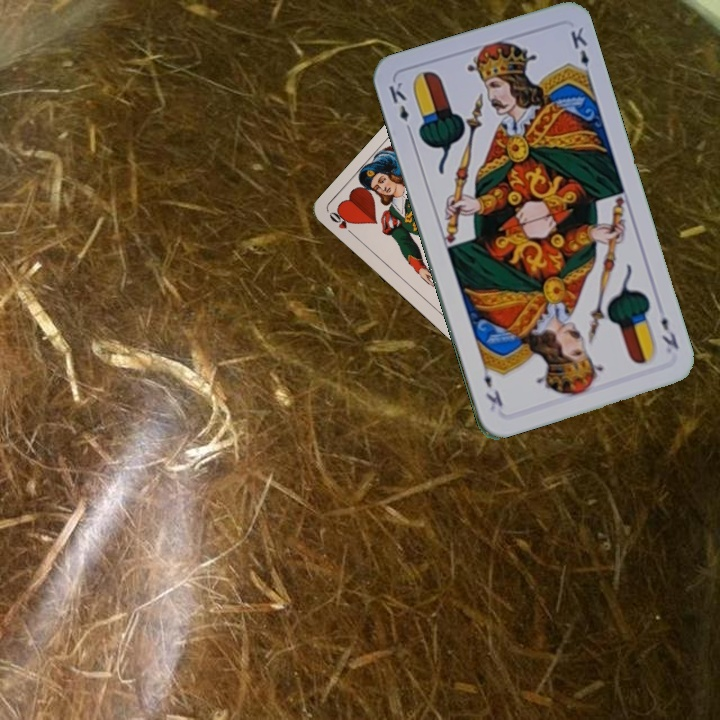EK: (385, 78, 415, 136), (657, 312, 682, 352)
HO: (325, 207, 358, 239)
